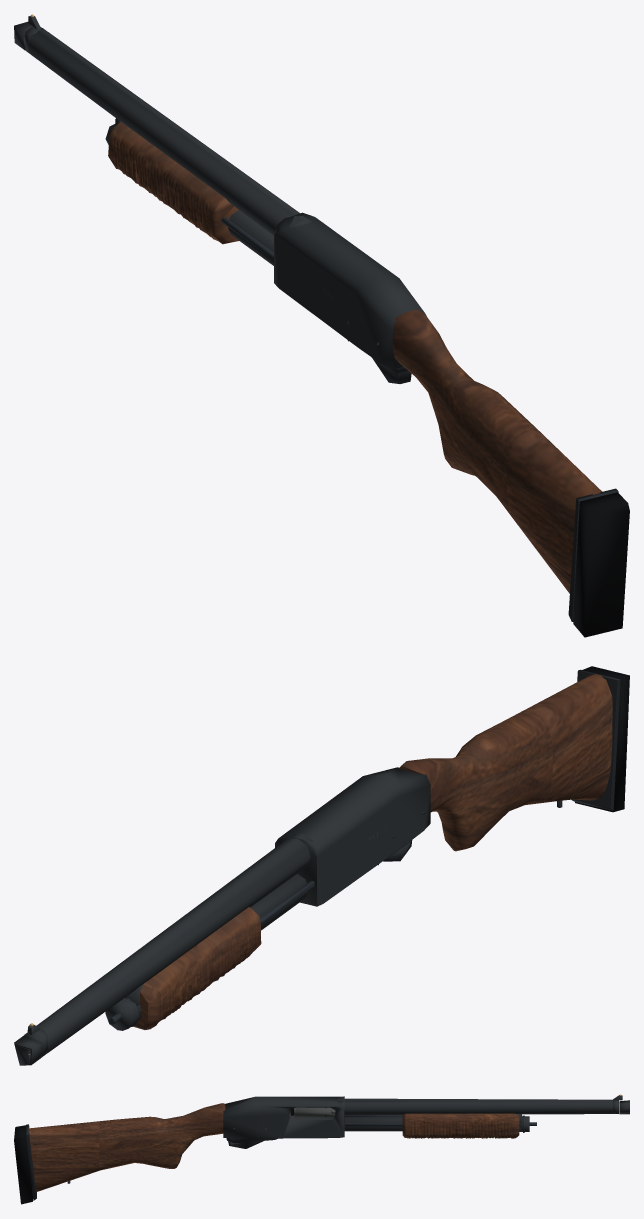
3 renders of one model, top to bottom at view 1: azimuth 30°, elevation 25°; view 2: azimuth 150°, elevation 25°; view 3: azimuth 270°, elevation 25°, orthographic. The views are drawn at different scales.
Visible parts, largest first — view 1: Stock_Mesh, Body_Mesh, Pump_Mesh, Magazine_Mesh; view 2: Body_Mesh, Stock_Mesh, Pump_Mesh, Magazine_Mesh; view 3: Stock_Mesh, Body_Mesh, Pump_Mesh, Magazine_Mesh, Bolt_Mesh.
Part boxes in pixels (bbox=[...]): Stock_Mesh: bbox=[392, 309, 629, 637]; Body_Mesh: bbox=[14, 21, 426, 383]; Pump_Mesh: bbox=[108, 121, 273, 260]; Magazine_Mesh: bbox=[105, 124, 273, 265]; Body_Mesh: bbox=[14, 767, 430, 1065]; Stock_Mesh: bbox=[399, 666, 629, 851]; Pump_Mesh: bbox=[133, 881, 314, 1029]; Magazine_Mesh: bbox=[105, 874, 308, 1030]; Stock_Mesh: bbox=[14, 1103, 225, 1204]; Body_Mesh: bbox=[223, 1096, 629, 1148]; Pump_Mesh: bbox=[344, 1113, 519, 1138]; Magazine_Mesh: bbox=[344, 1115, 536, 1132]; Bolt_Mesh: bbox=[294, 1107, 335, 1117].
Size of the model in its own units: 0.0481 by 0.1838 by 0.976.
Materials: 10 (1 with a texture image).
